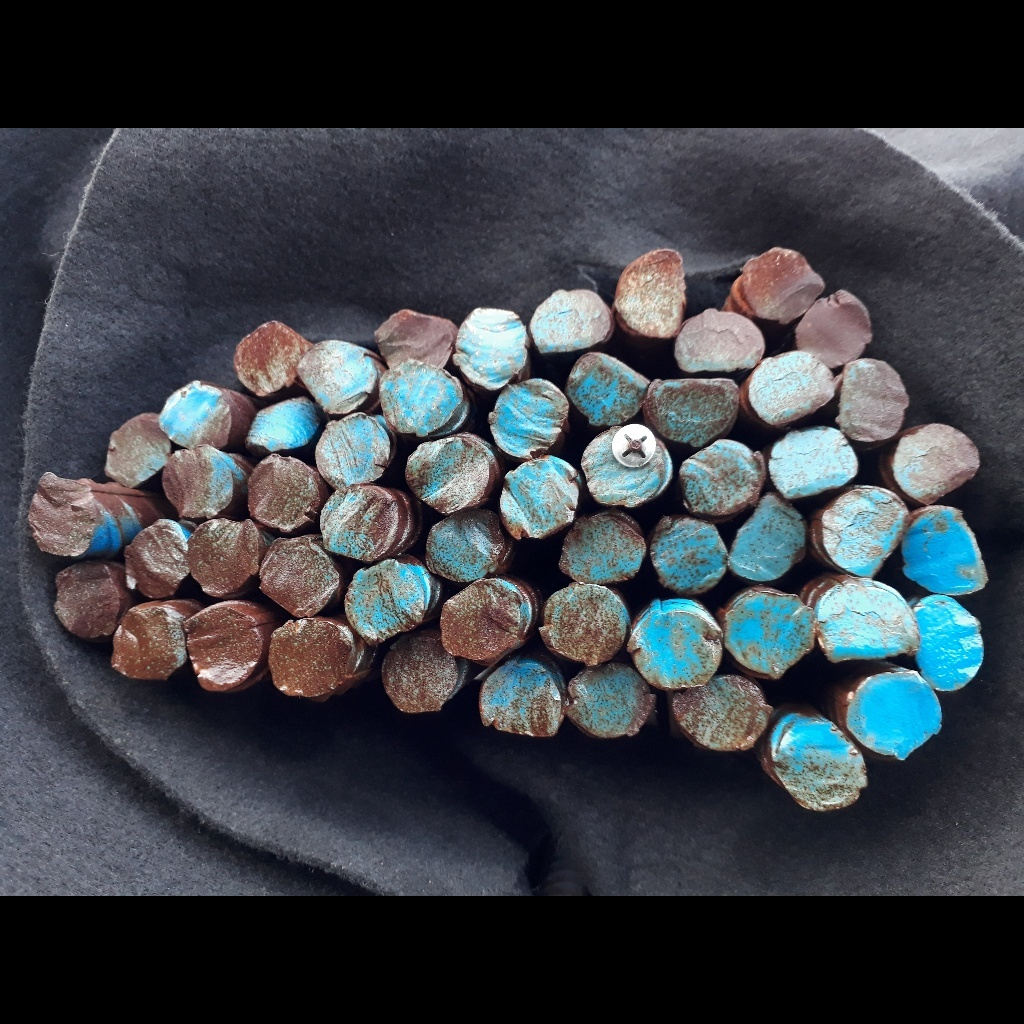dipstick: (850, 673, 943, 760), (818, 582, 917, 660), (903, 506, 987, 595), (672, 678, 772, 752), (781, 723, 864, 811), (727, 593, 815, 673), (823, 487, 902, 573), (915, 594, 984, 690), (584, 428, 670, 505), (896, 423, 978, 503), (545, 585, 628, 663), (636, 610, 722, 685), (480, 660, 563, 737), (186, 605, 262, 688), (730, 500, 806, 582), (568, 665, 653, 738), (406, 438, 488, 512), (271, 620, 351, 694), (264, 537, 337, 618), (443, 584, 520, 660), (561, 513, 646, 581), (488, 382, 568, 454), (503, 457, 574, 538), (751, 354, 834, 423), (112, 607, 188, 682), (839, 358, 907, 441), (771, 432, 855, 499), (300, 339, 375, 414), (681, 441, 759, 513), (350, 564, 429, 635), (29, 473, 98, 554), (383, 636, 455, 713), (123, 519, 190, 601), (381, 363, 461, 431), (649, 380, 738, 441), (321, 486, 396, 558), (743, 248, 819, 319), (799, 289, 870, 365), (458, 305, 527, 383), (678, 313, 764, 374), (621, 248, 681, 335), (192, 519, 261, 594), (653, 523, 726, 592), (571, 357, 644, 425), (531, 291, 609, 354), (318, 415, 389, 484), (164, 447, 231, 519), (162, 382, 230, 451), (429, 517, 502, 579), (377, 311, 454, 369), (252, 458, 314, 528), (56, 565, 118, 635), (239, 319, 300, 389), (107, 414, 167, 485), (246, 399, 318, 451)
